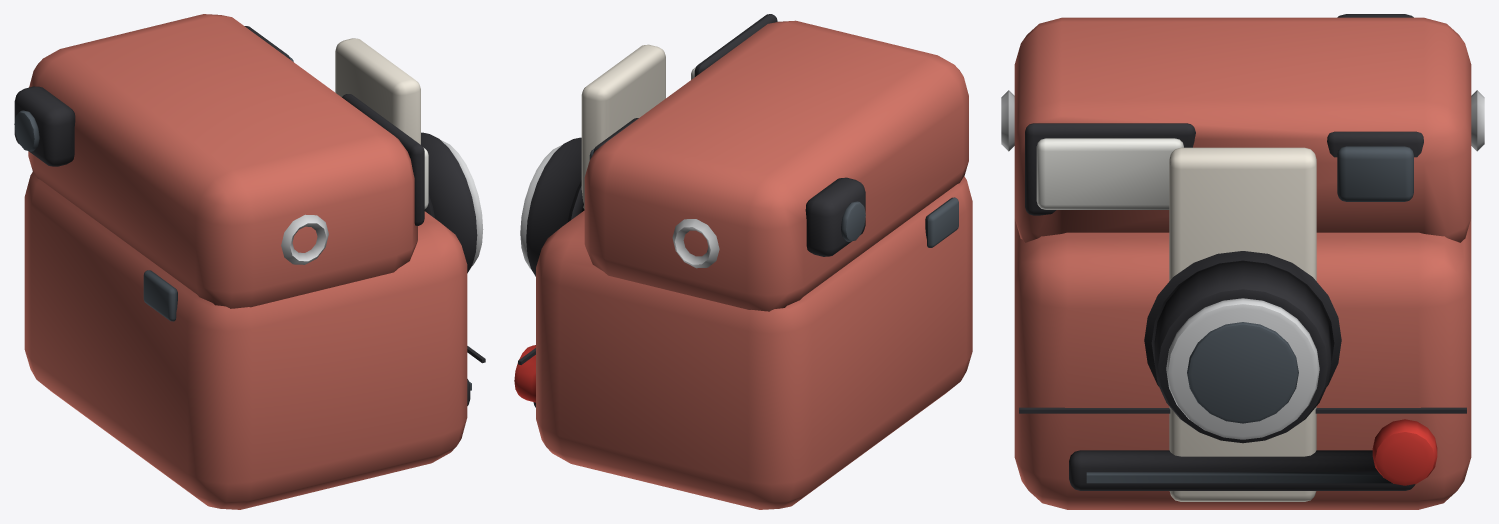
File: nd_camera.glb
The picture shows the model from 3 angles, left to right: view 1: azimuth 30°, elevation 25°; view 2: azimuth 150°, elevation 25°; view 3: azimuth 270°, elevation 25°; orthographic projection. The views are drawn at different scales.
Parts seen in each view (by area): view 1: PART; view 2: PART; view 3: PART.
Part boxes in pixels (x1,y1,x2,y2): PART: (14,14,485,509); PART: (514,14,972,509); PART: (1001,14,1484,509).
Size of the model in its own units: 0.163 by 0.142 by 0.164.
